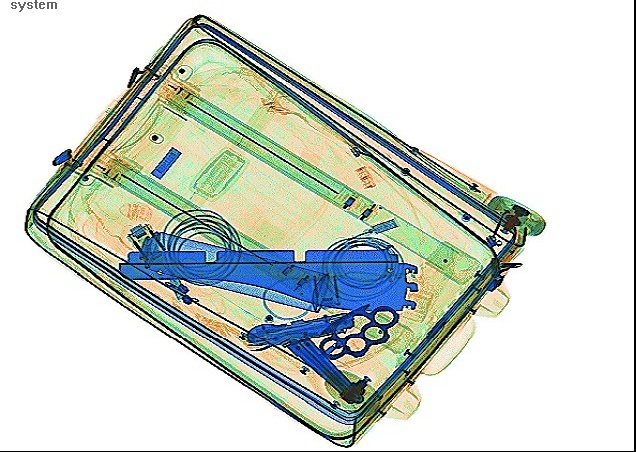knife: (282, 329, 368, 405), (240, 309, 358, 356)
pressure: (114, 224, 329, 311)
